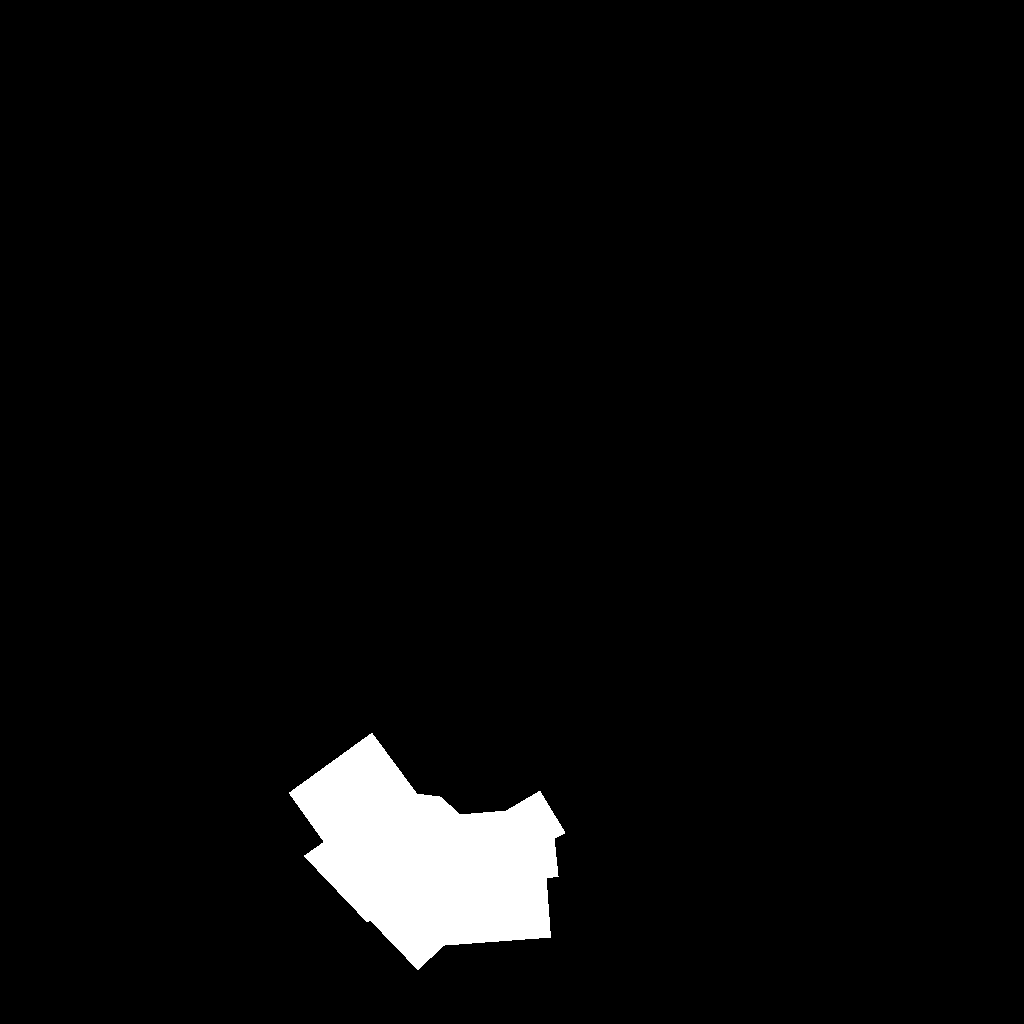building: (289, 733, 566, 971)
